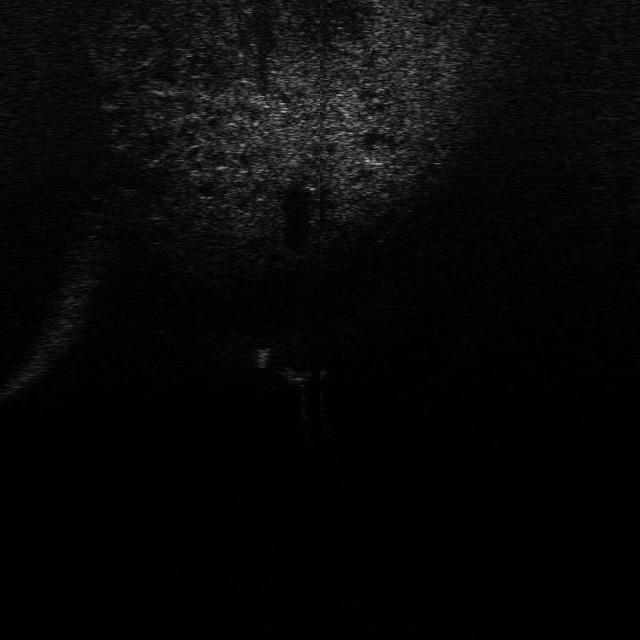cube: (276, 364, 314, 388)
cylinder: (248, 344, 277, 371)
